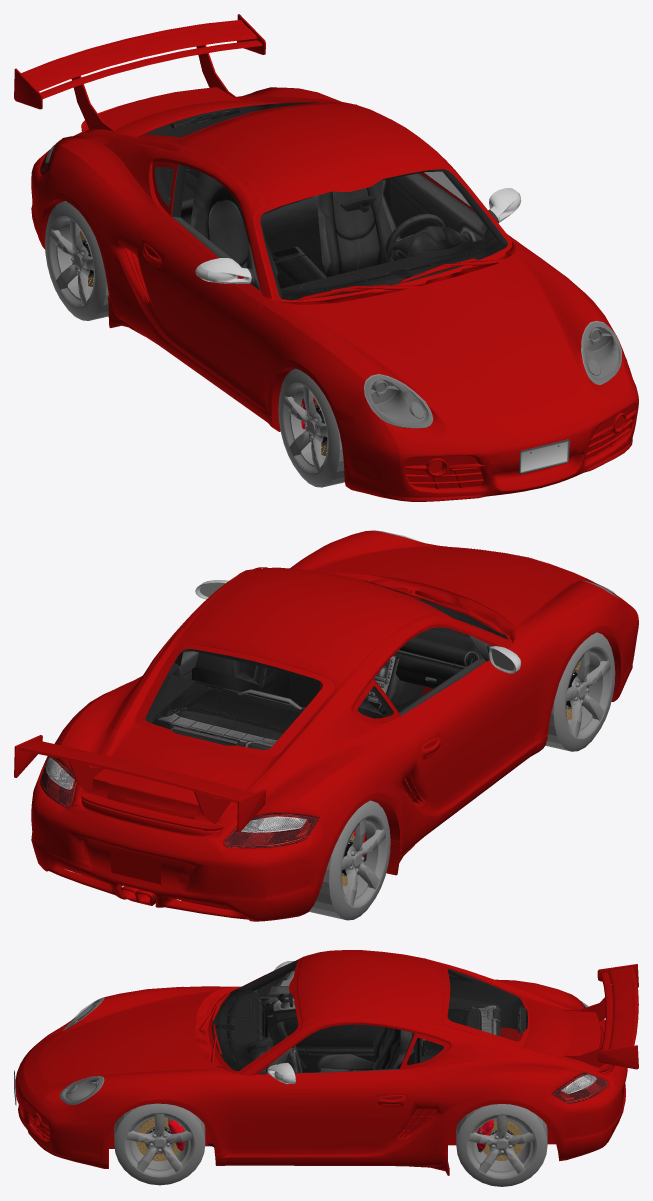
Rendered from porsche-cayman.obj.
3 views of the same model, one above another, from view 1: azimuth 30°, elevation 25°; view 2: azimuth 150°, elevation 25°; view 3: azimuth 270°, elevation 25° (orthographic). The views are drawn at different scales.
Visible parts, largest first — view 1: Body, Base_Detached, Interior, Hood, Base, SuperSpoiler, TireFR, TireRR, USpoiler, Spoiler, HLightR, HLightRG (+5 smaller); view 2: Body, Base, Base_Detached, Interior, Spoiler, Hood, USpoiler, TireRR, TireFR, SuperSpoiler, BLightR, BLightL (+1 smaller); view 3: Body, Base, Base_Detached, Interior, Hood, TireRL, TireFL, Spoiler, SuperSpoiler, USpoiler, BLightL, HLightL (+4 smaller).
Boxes of the visible parts, <box> form: Body: <box>31,87,638,501</box>; Base_Detached: <box>146,102,507,299</box>; Interior: <box>146,102,507,300</box>; Hood: <box>311,256,579,420</box>; Base: <box>105,102,515,304</box>; SuperSpoiler: <box>14,14,265,109</box>; TireFR: <box>278,368,344,487</box>; TireRR: <box>45,201,108,320</box>; USpoiler: <box>71,45,354,148</box>; Spoiler: <box>84,96,354,150</box>; HLightR: <box>364,374,433,428</box>; HLightRG: <box>365,375,431,427</box>; Body: <box>31,530,638,921</box>; Base: <box>104,567,515,777</box>; Base_Detached: <box>146,582,507,749</box>; Interior: <box>145,599,507,749</box>; Spoiler: <box>85,629,356,826</box>; Hood: <box>314,546,579,621</box>; USpoiler: <box>69,629,355,824</box>; TireRR: <box>309,800,390,920</box>; TireFR: <box>545,632,615,751</box>; SuperSpoiler: <box>14,735,265,832</box>; BLightR: <box>223,812,319,848</box>; BLightL: <box>40,756,76,808</box>; Body: <box>15,951,627,1175</box>; Base: <box>194,950,536,1075</box>; Base_Detached: <box>212,960,527,1072</box>; Interior: <box>207,960,527,1146</box>; Hood: <box>39,992,213,1083</box>; TireRL: <box>456,1104,547,1186</box>; TireFL: <box>114,1103,205,1185</box>; Spoiler: <box>426,959,597,1070</box>; SuperSpoiler: <box>597,964,638,1069</box>; USpoiler: <box>426,959,605,1070</box>; BLightL: <box>551,1072,608,1103</box>; HLightL: <box>60,1076,104,1104</box>.
Bounding box in the file's own units: 1.27 × 0.8171 × 2.88.
